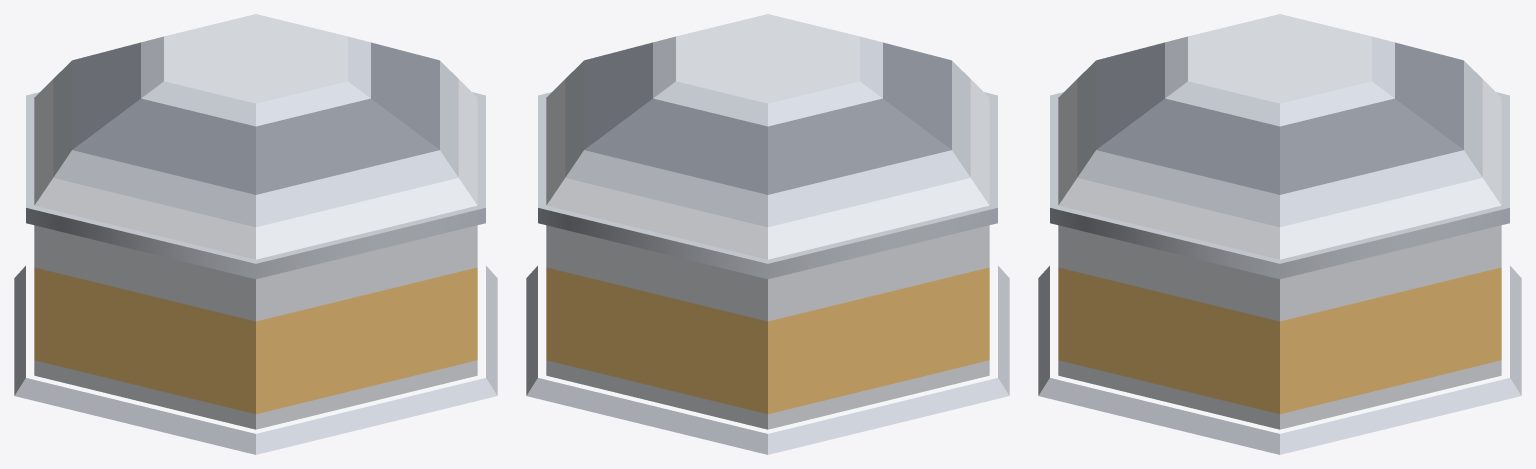
The model's file is hangar_roundb.003_lev1.glb.
3 renders of one model, left to right at view 1: azimuth 30°, elevation 25°; view 2: azimuth 150°, elevation 25°; view 3: azimuth 270°, elevation 25°, orthographic.
Parts seen in each view (by area): view 1: hangar_roundb.003_lev1; view 2: hangar_roundb.003_lev1; view 3: hangar_roundb.003_lev1.
Part boxes in pixels (left/top/right/bottom): hangar_roundb.003_lev1: left=14, top=14, right=497, bottom=454; hangar_roundb.003_lev1: left=526, top=14, right=1009, bottom=454; hangar_roundb.003_lev1: left=1038, top=14, right=1521, bottom=454.
Bounding box in the file's own units: 3.27 × 1.8 × 2.83.
